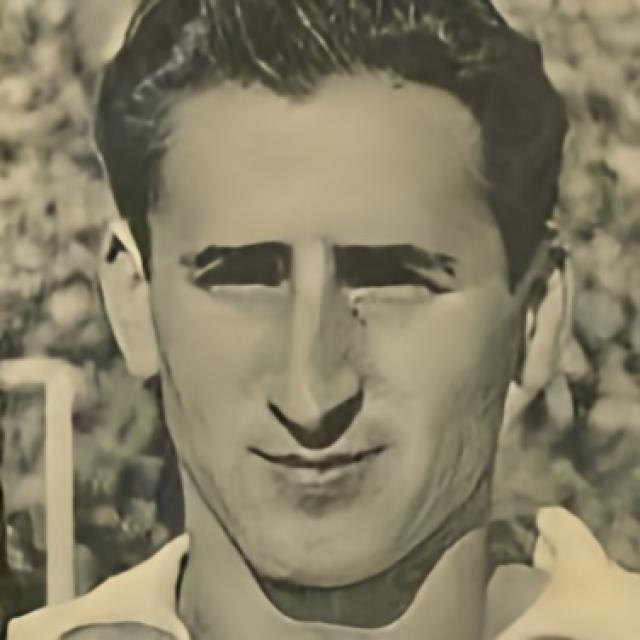content: (152, 71, 514, 584)
